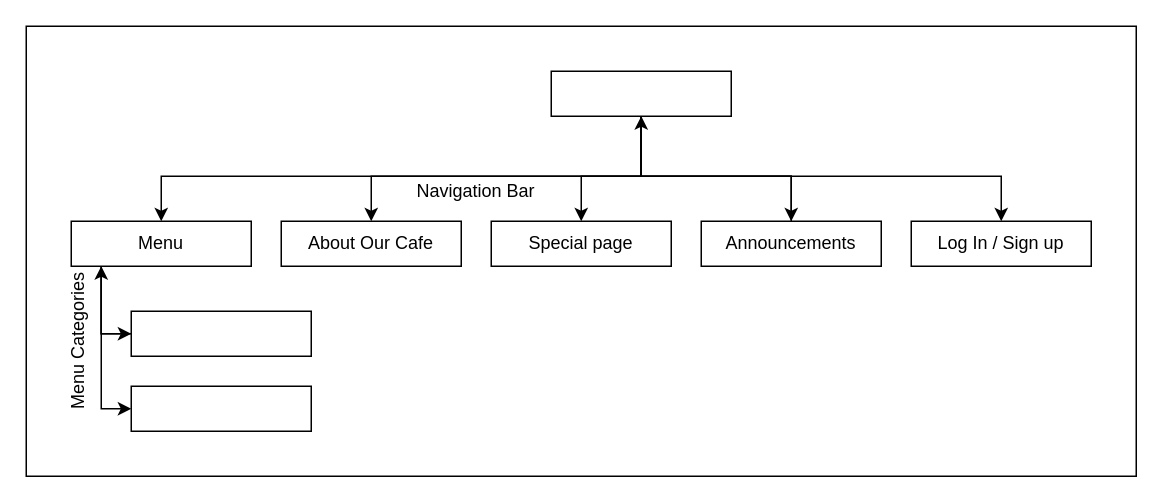
Some shapes in this 1163 by 503 pixel diagram are drawn without their labels. Each missing label, with the box of its shape:
All Day Menu: (130, 310, 311, 356)
Home Page: (550, 70, 731, 116)
Morning Menu: (130, 385, 311, 431)
